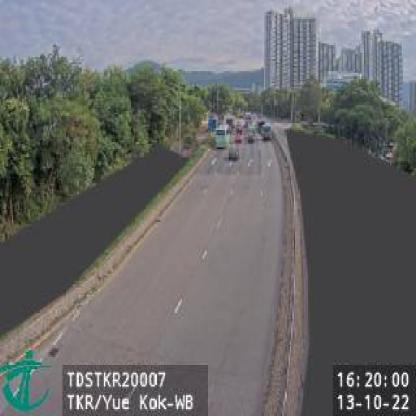Bus: (216, 124, 230, 150)
Car: (229, 145, 240, 161)
